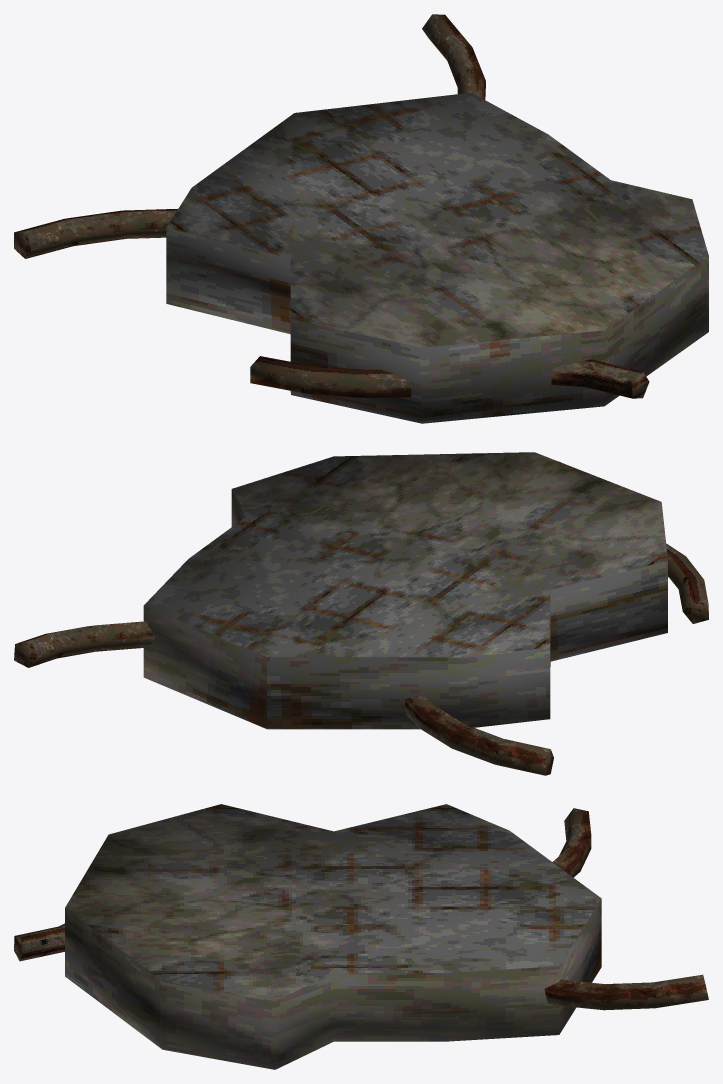
File: concrete_debris_2.glb
3 renders of one model, top to bottom at view 1: azimuth 30°, elevation 25°; view 2: azimuth 150°, elevation 25°; view 3: azimuth 270°, elevation 25°, orthographic. The views are drawn at different scales.
Parts seen in each view (by area): view 1: Concrete_Debris_2; view 2: Concrete_Debris_2; view 3: Concrete_Debris_2.
Part boxes in pixels (x1,y1,x2,y2): Concrete_Debris_2: [14, 14, 708, 423]; Concrete_Debris_2: [14, 452, 708, 775]; Concrete_Debris_2: [14, 804, 708, 1069].
Size of the model in its own units: 1.69 by 0.3002 by 2.23.
Materials: 1 (1 with a texture image).
